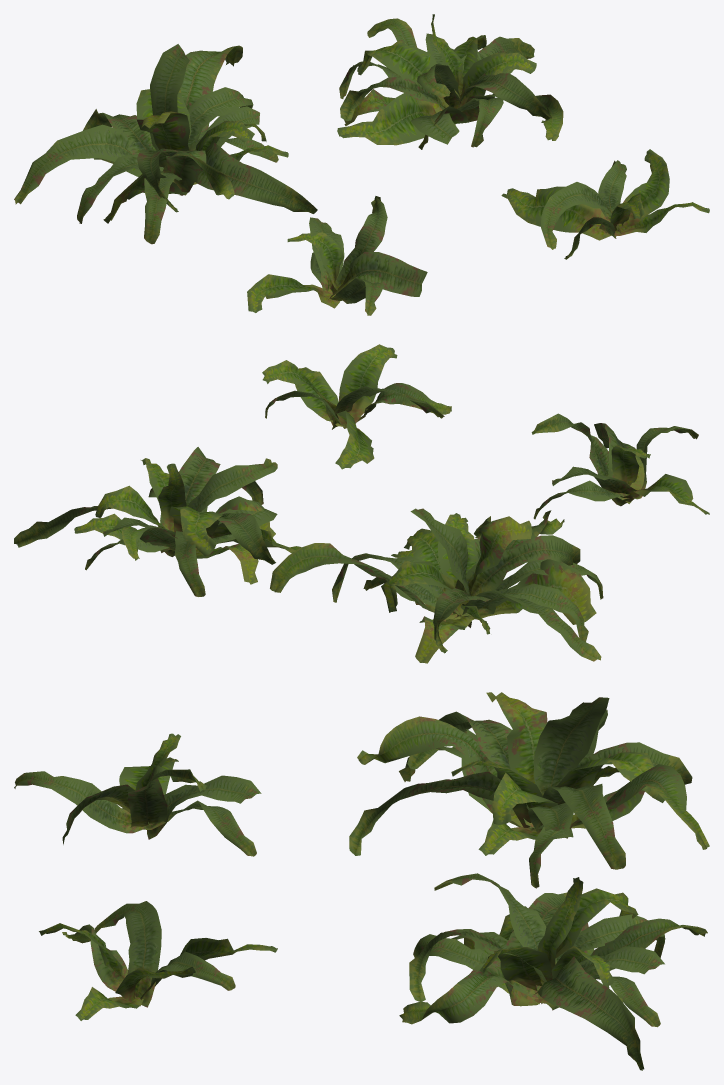
Rendered from fern_02_low.glb.
The picture shows the model from 3 angles, top to bottom: view 1: azimuth 30°, elevation 25°; view 2: azimuth 150°, elevation 25°; view 3: azimuth 270°, elevation 25°; orthographic projection. The views are drawn at different scales.
Parts seen in each view (by area): view 1: fern_02_b, fern_02_c, fern_02_d, fern_02_a; view 2: fern_02_b, fern_02_c, fern_02_d, fern_02_a; view 3: fern_02_b, fern_02_c, fern_02_a, fern_02_d.
Part boxes in pixels (x1=…): fern_02_b: x1=14, y1=44, x2=317, y2=244; fern_02_c: x1=337, y1=14, x2=563, y2=149; fern_02_d: x1=501, y1=149, x2=709, y2=259; fern_02_a: x1=247, y1=196, x2=427, y2=315; fern_02_b: x1=270, y1=508, x2=603, y2=663; fern_02_c: x1=14, y1=447, x2=301, y2=596; fern_02_d: x1=262, y1=344, x2=451, y2=469; fern_02_a: x1=531, y1=413, x2=709, y2=519; fern_02_b: x1=349, y1=692, x2=709, y2=888; fern_02_c: x1=399, y1=873, x2=707, y2=1070; fern_02_a: x1=14, y1=733, x2=261, y2=856; fern_02_d: x1=39, y1=901, x2=277, y2=1020.
Size of the model in its own units: 1.97 by 0.4277 by 1.72.
1 material, 1 textured.
